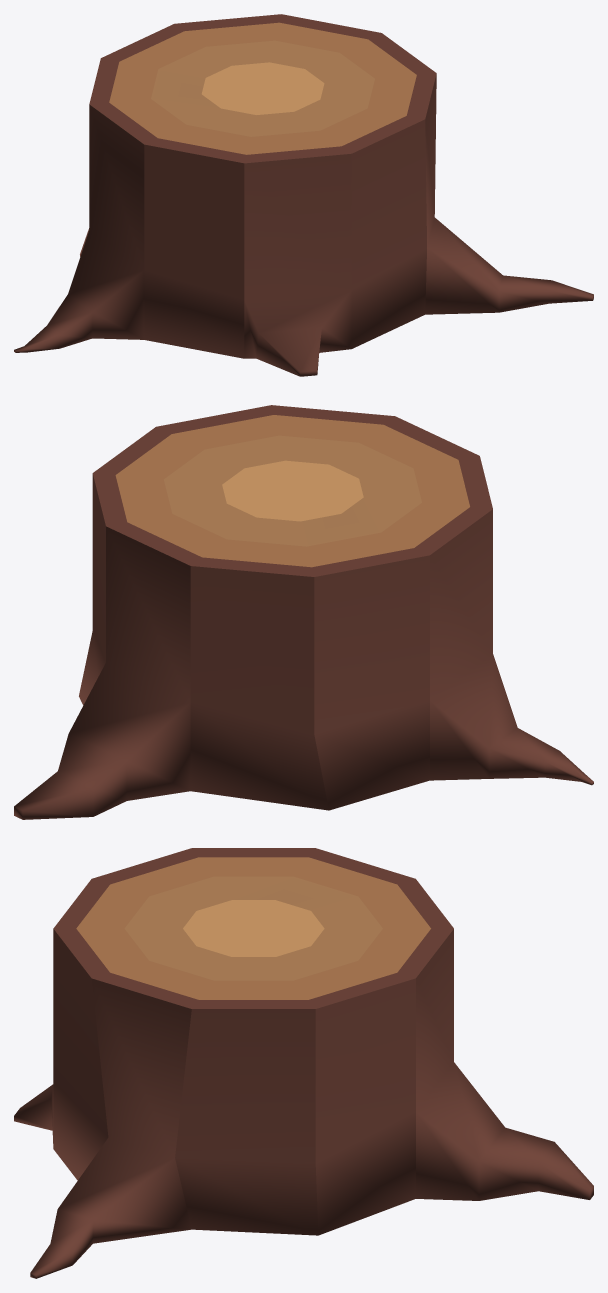
The model's file is stump_with_root.fbx.
3 views of the same model, one above another, from view 1: azimuth 30°, elevation 25°; view 2: azimuth 150°, elevation 25°; view 3: azimuth 270°, elevation 25° (orthographic). The views are drawn at different scales.
Visible parts, largest first — view 1: stump; view 2: stump; view 3: stump.
Boxes of the visible parts, <box> form: stump: <box>14,14,593,376</box>; stump: <box>14,405,593,819</box>; stump: <box>14,848,593,1278</box>.
Bounding box in the file's own units: 61.29 × 23.61 × 55.8.
